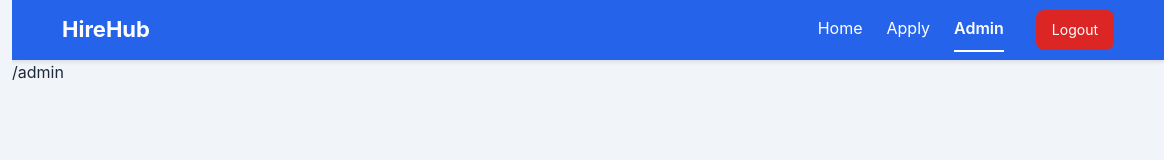
Test: Header › reflects login events and removes only auth on user logout, navigating home
Check: the link "Login" is not shown
Step 1. Click the button "Logout" → [1075, 30], box [1036,10,1114,50]
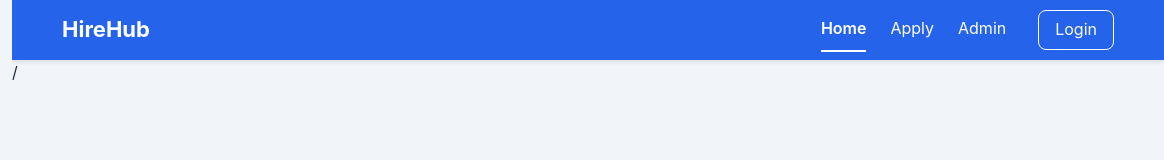
Check: the text named "Current route" reads "/", box [12,62,18,82]
Check: the link "Login" is shown, box [1038,10,1114,50]
